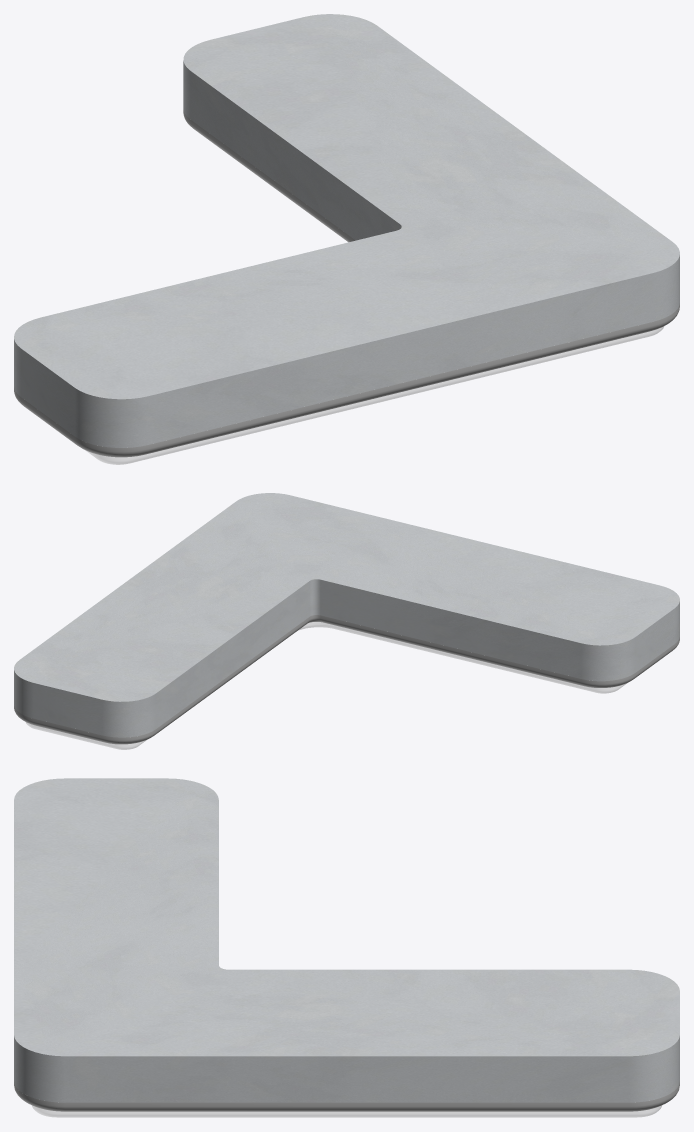
The model's file is nimbus-l-shape.glb.
The picture shows the model from 3 angles, top to bottom: view 1: azimuth 30°, elevation 25°; view 2: azimuth 150°, elevation 25°; view 3: azimuth 270°, elevation 25°; orthographic projection. The views are drawn at different scales.
Visible parts, largest first — view 1: base, frame, glass-cover; view 2: base, frame, glass-cover; view 3: base, frame, glass-cover.
Boxes of the visible parts, x1,y1,x2,y2 form: base: (14,14,679,447); frame: (14,110,679,457); glass-cover: (85,326,663,464); base: (14,493,679,737); frame: (14,615,679,744); glass-cover: (26,622,626,749); base: (14,778,679,1102); frame: (14,1082,679,1111); glass-cover: (32,1105,661,1117).
Bounding box in the file's own units: 0.385 × 0.0475 × 0.39.
4 materials, 2 textured.
